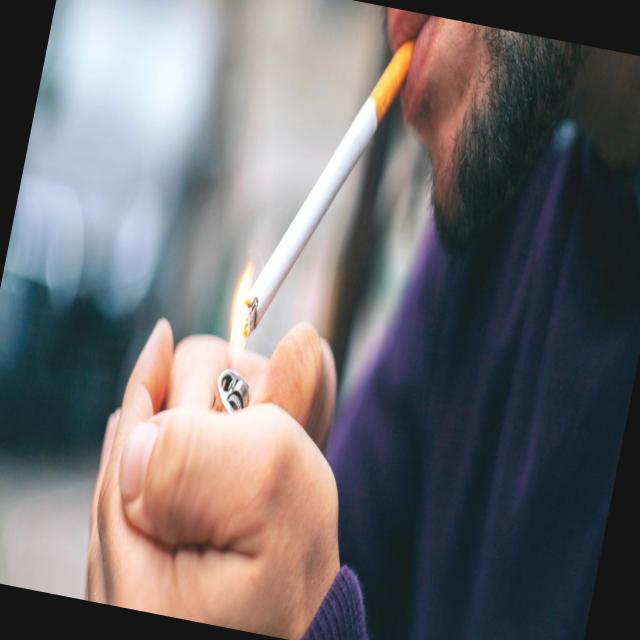cigarette: (229, 18, 414, 370)
